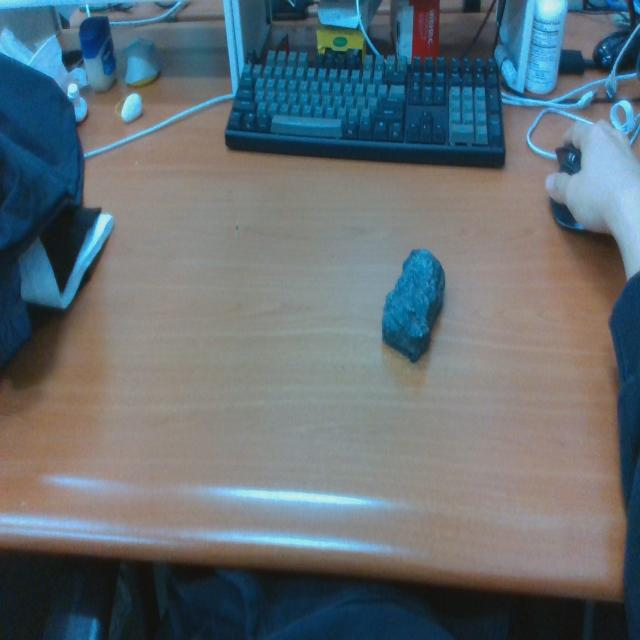stone: (381, 247, 447, 363)
